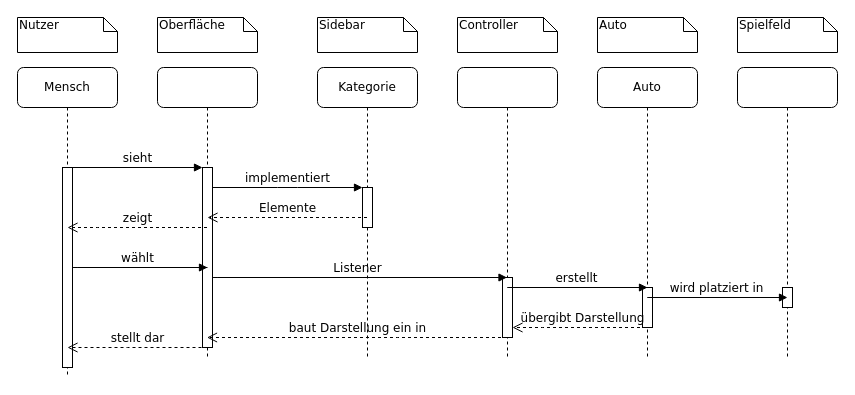
This 855x395 diagram has some shape labels left out. Each missing label, with the box of its shape:
Editor: (736, 66, 838, 358)
Gui:: (156, 66, 258, 358)
TestController: (456, 66, 558, 358)
